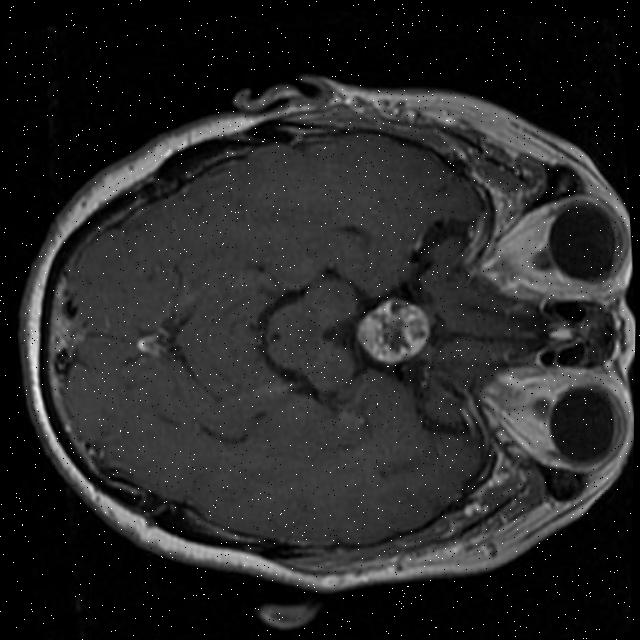Pituitary: (352, 295, 432, 369)
